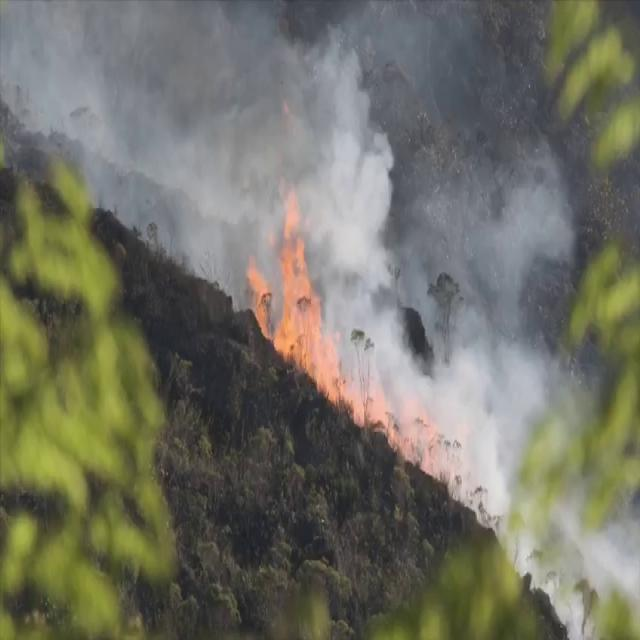Fire: (246, 193, 350, 411)
Smoke: (487, 190, 576, 336), (325, 127, 395, 290), (352, 291, 428, 398), (490, 342, 548, 479), (80, 112, 144, 236), (180, 220, 240, 300), (473, 416, 511, 530)
